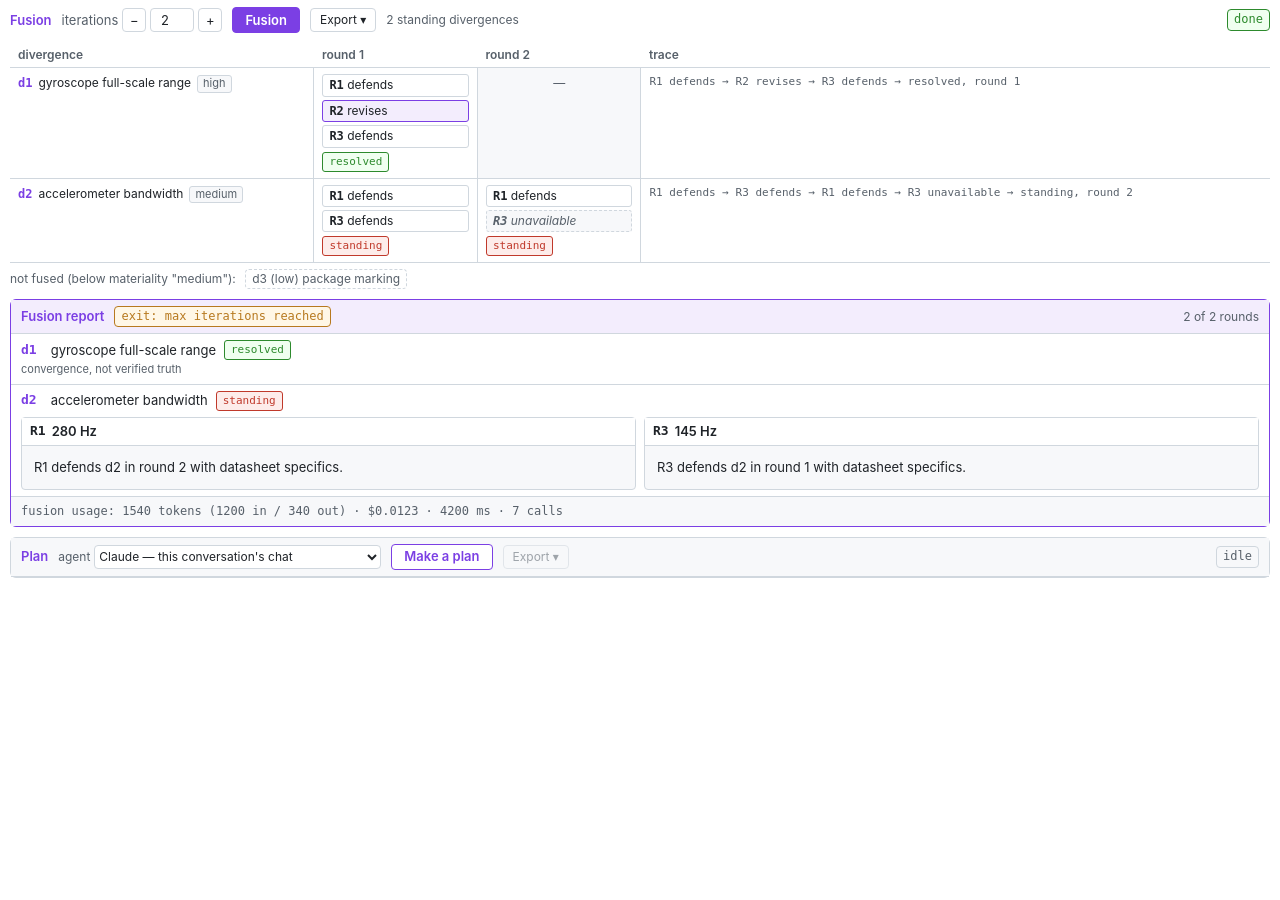
the export control never reveals which slot is which › the result line names files, never models
What coordinates should you click on to do the following:
click the button with test id "export-fusion"
I would click on:
 (343, 20)
Its box is [310,8,376,32].
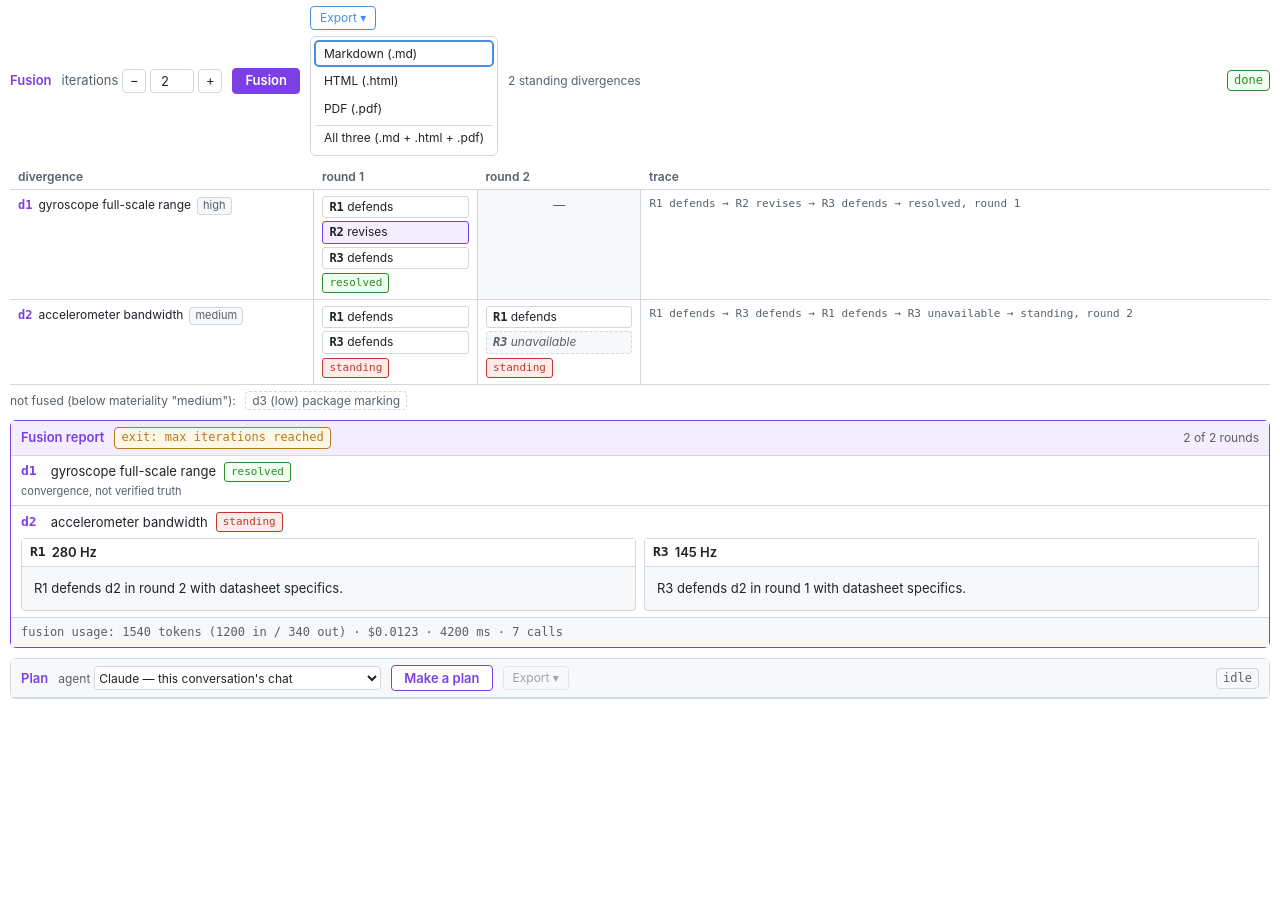
What coordinates should you click on to do the following:
click the menu item with test id "export-format-all"
I would click on:
 (404, 138)
Its box is [315,125,493,151].
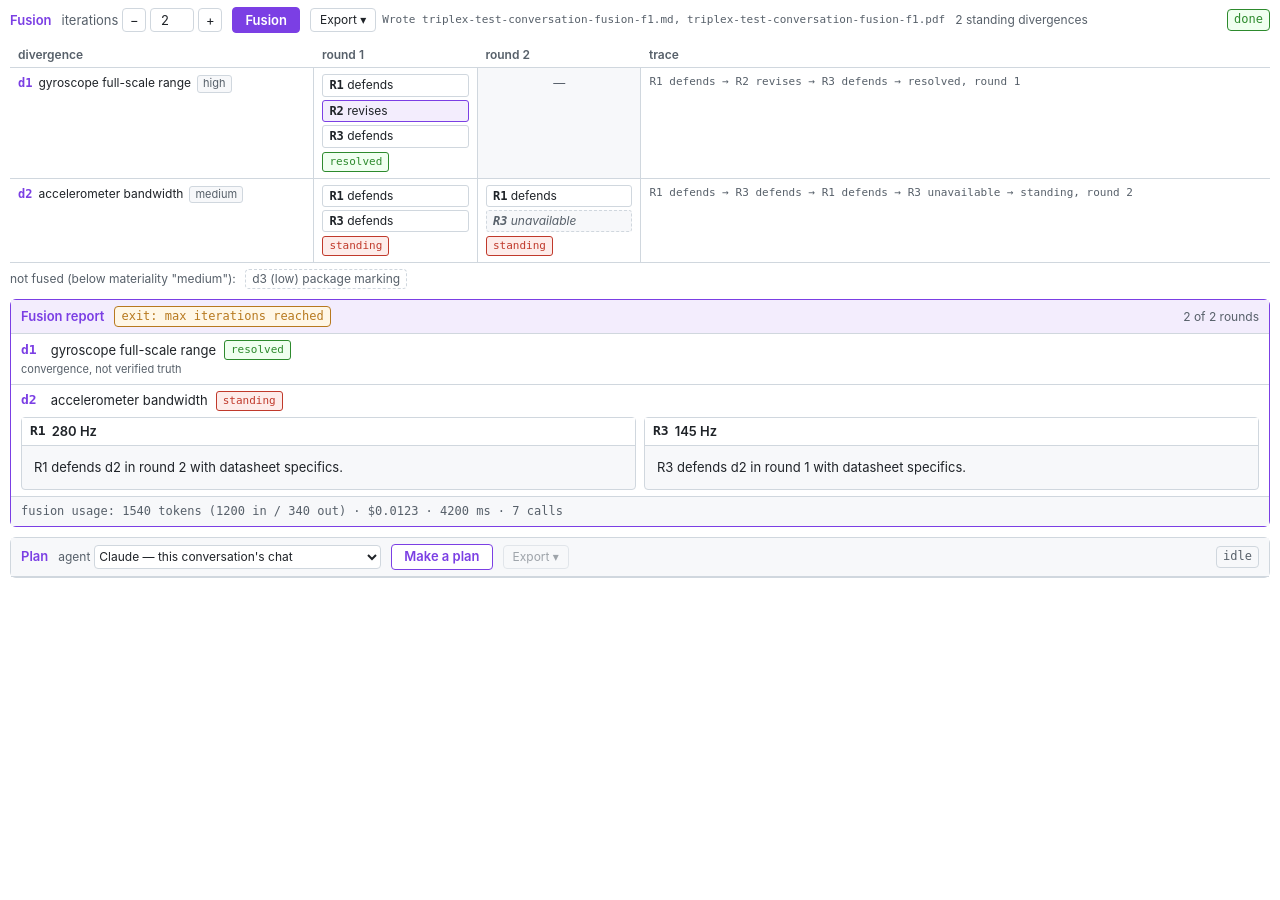
Expected: the message with test id "export-fusion-result" shows "Wrote triplex-test-conversation-fusion-f1.md, triplex-test-conversation-fusion-f1.pdf", [382,13,945,26]
